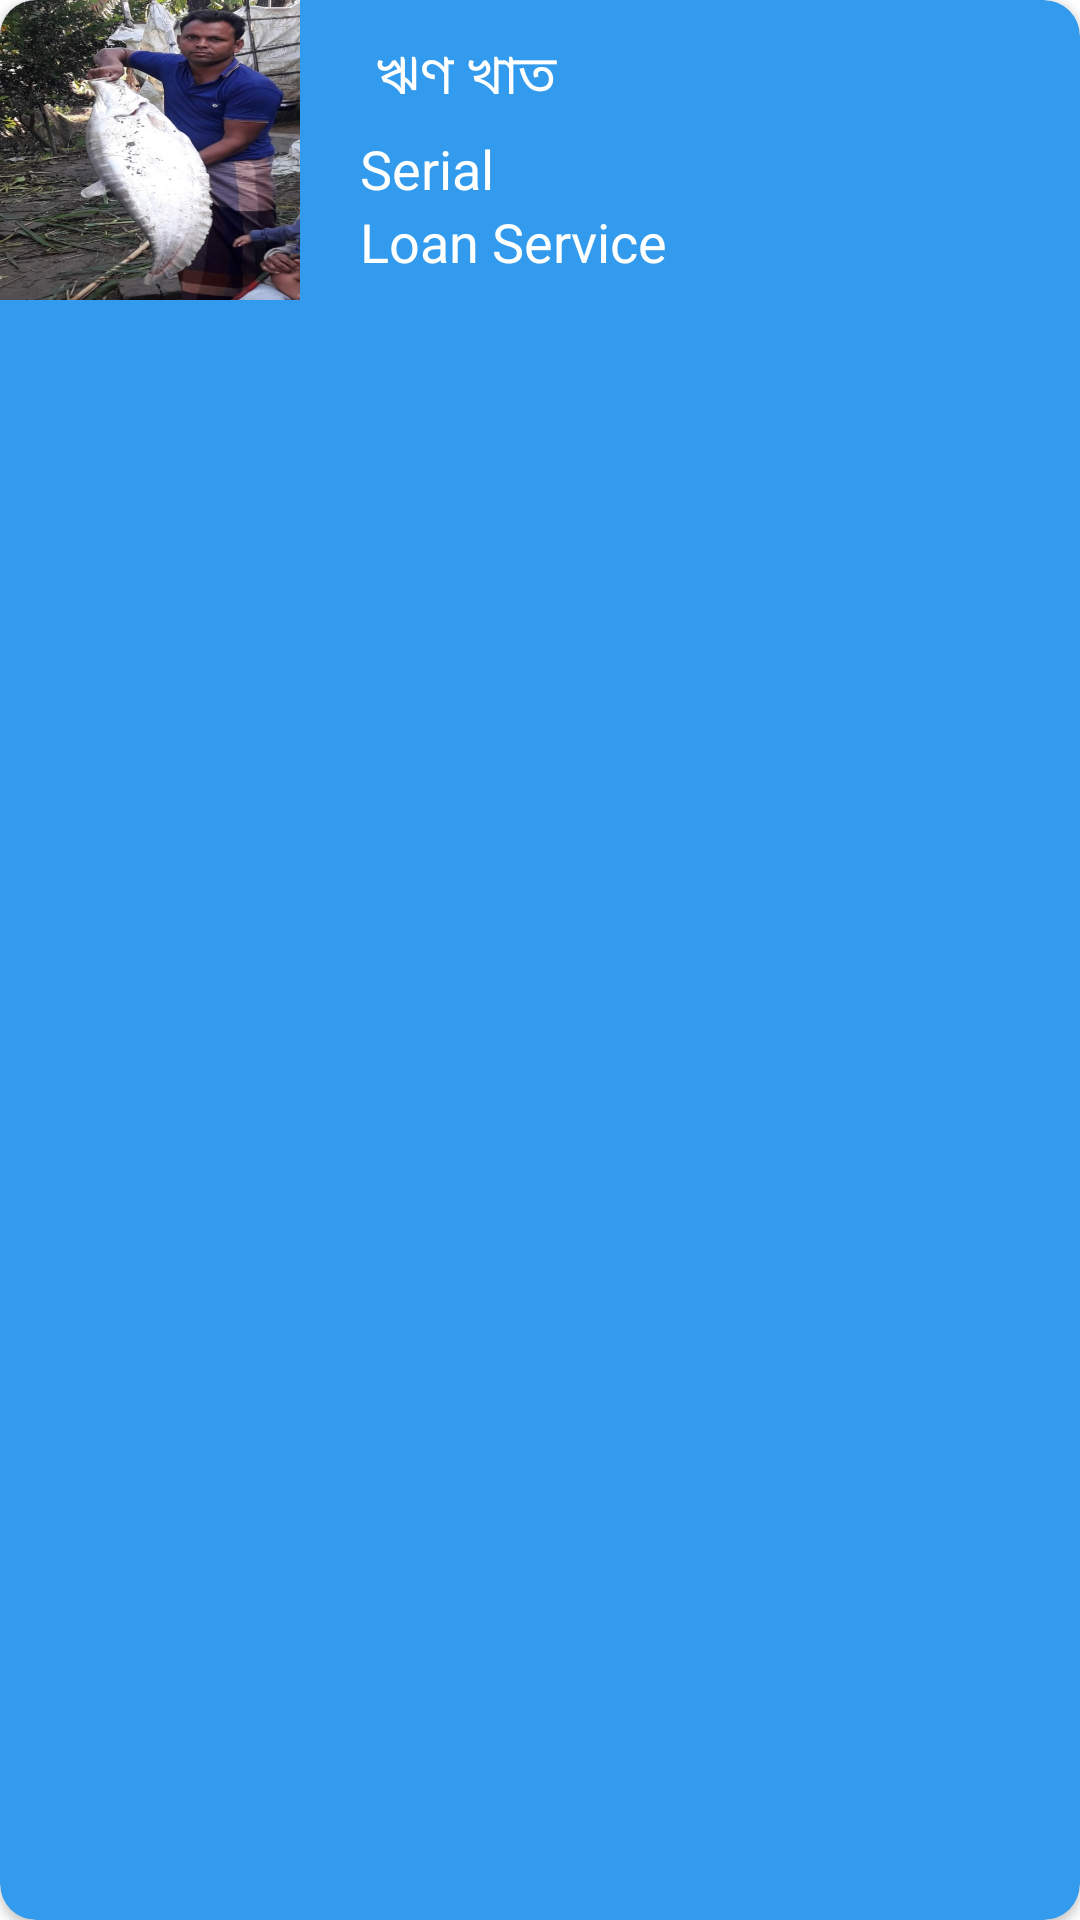

Icons on this 1080px×1920px Android screen, each with the point to tap as (x,y):
fish: (150,150)
